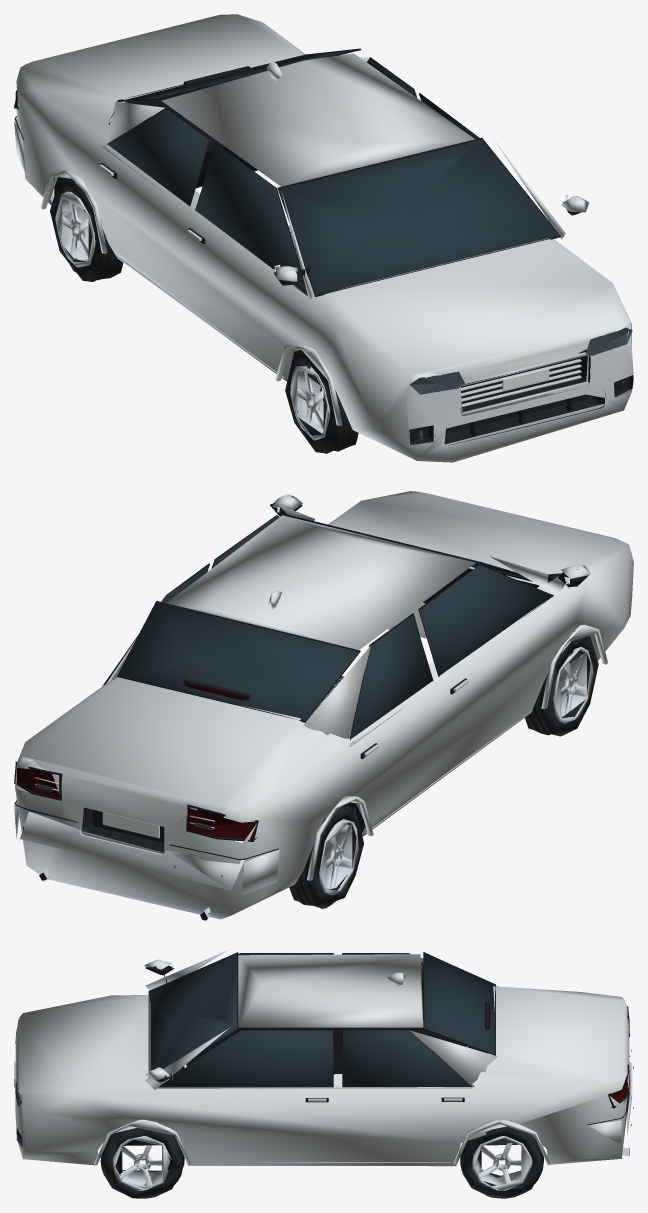
Rendered from car-sedan-white.glb.
The picture shows the model from 3 angles, top to bottom: view 1: azimuth 30°, elevation 25°; view 2: azimuth 150°, elevation 25°; view 3: azimuth 270°, elevation 25°; orthographic projection. The views are drawn at different scales.
Parts seen in each view (by area): view 1: Aerodynamic mirror painted cap, Front side door glass, Aerodynamic mirror lower housing, 107 reused Alloy_five_spoke_rim, 107 reused Sculpted_tyre, Clear reversing lens insert; view 2: Aerodynamic mirror painted cap, Front side door glass, Aerodynamic mirror lower housing, 107 reused Sculpted_tyre, 107 reused Alloy_five_spoke_rim, Flush corner wrapping ruby lamp lens, Front license plate; view 3: Aerodynamic mirror painted cap, Front side door glass, 107 reused Sculpted_tyre, 107 reused Alloy_five_spoke_rim, Aerodynamic mirror lower housing.
Part boxes in pixels (x1,y1,x2,y2): Aerodynamic mirror painted cap: (14, 14, 633, 462); Front side door glass: (107, 50, 559, 295); Aerodynamic mirror lower housing: (14, 48, 633, 445); 107 reused Alloy_five_spoke_rim: (55, 147, 589, 440); 107 reused Sculpted_tyre: (50, 178, 358, 453); Clear reversing lens insert: (410, 327, 632, 439); Aerodynamic mirror painted cap: (14, 491, 633, 919); Front side door glass: (106, 514, 552, 738); Aerodynamic mirror lower housing: (14, 502, 588, 920); 107 reused Sculpted_tyre: (289, 635, 598, 908); 107 reused Alloy_five_spoke_rim: (35, 506, 593, 920); Flush corner wrapping ruby lamp lens: (15, 682, 257, 839); Front license plate: (102, 812, 159, 838); Aerodynamic mirror painted cap: (15, 950, 632, 1166); Front side door glass: (149, 953, 494, 1086); 107 reused Sculpted_tyre: (100, 1046, 543, 1198); 107 reused Alloy_five_spoke_rim: (112, 963, 629, 1190); Aerodynamic mirror lower housing: (15, 952, 633, 1155).
Bounding box in the file's own units: 7.11 × 5.06 × 15.86.
8 materials, 8 textured.
